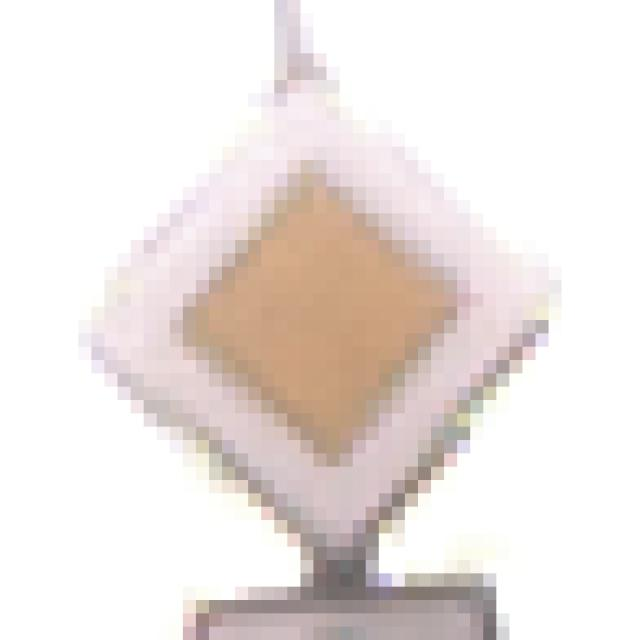Main Road: (66, 68, 576, 574)
